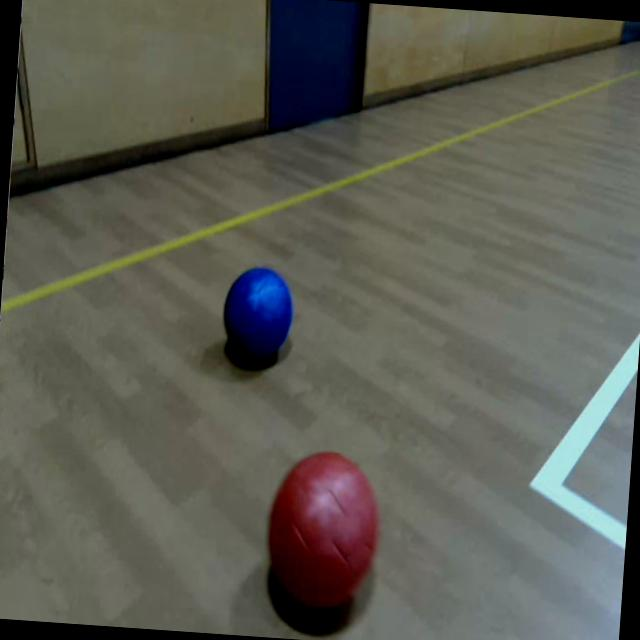blue_ball: (220, 262, 296, 359)
red_ball: (263, 447, 382, 615)
